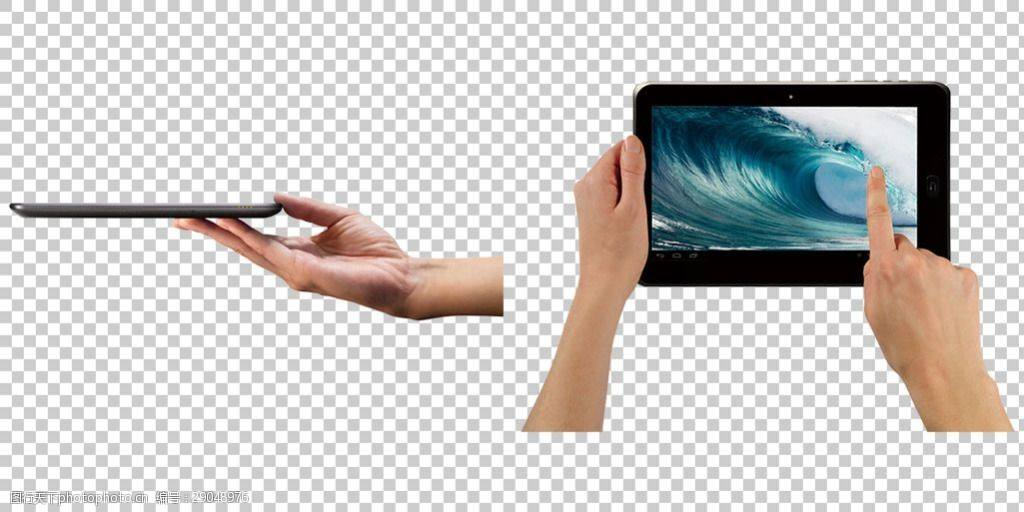pad: (554, 76, 992, 395), (2, 167, 436, 335)
